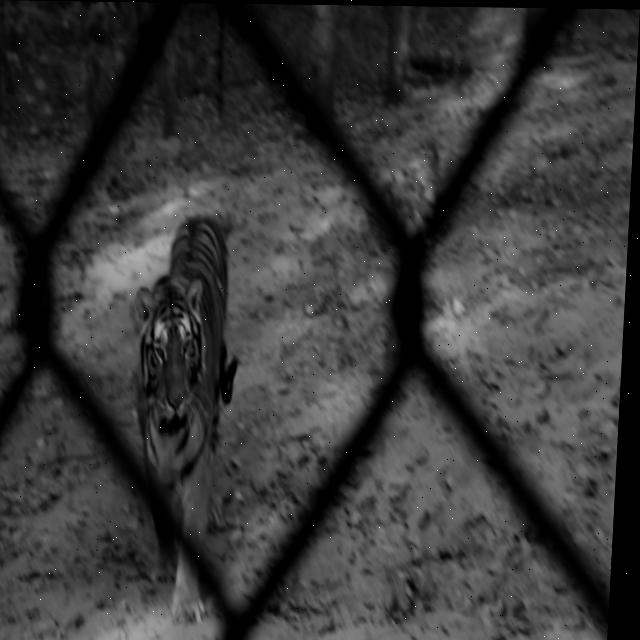Tiger: (117, 212, 246, 625)
